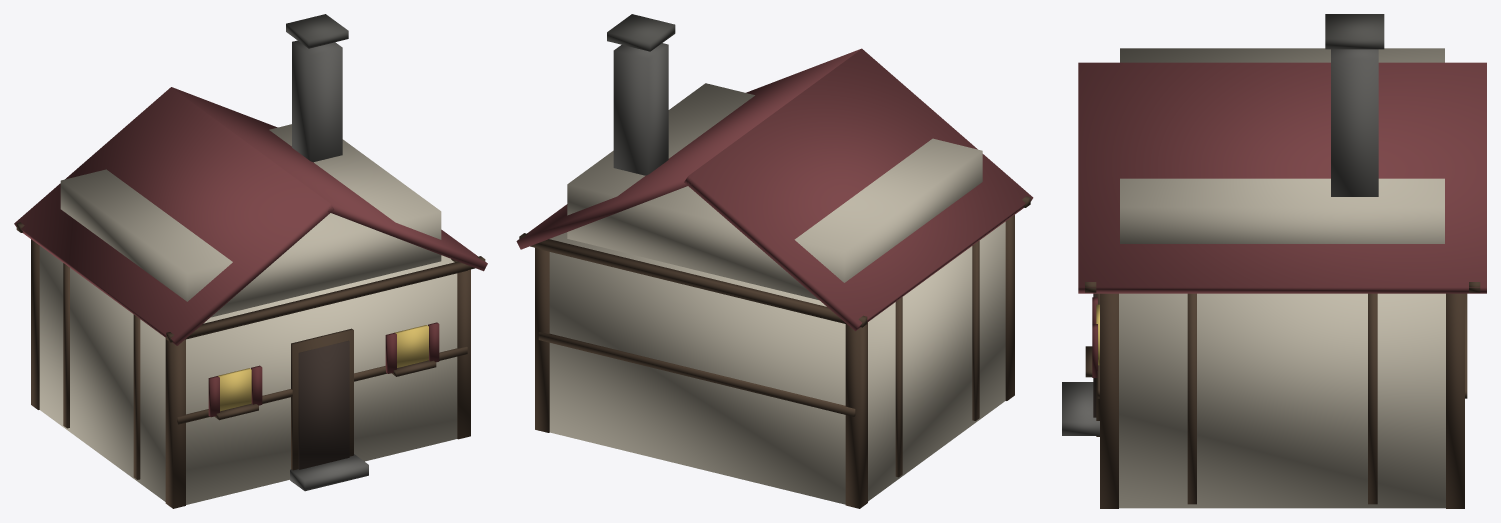
The model's file is house.glb.
3 views of the same model, side by side, from view 1: azimuth 30°, elevation 25°; view 2: azimuth 150°, elevation 25°; view 3: azimuth 270°, elevation 25° (orthographic). The views are drawn at different scales.
Parts seen in each view (by area): view 1: house; view 2: house; view 3: house.
Boxes of the visible parts, <box> form: house: <box>14,14,487,508</box>; house: <box>516,14,1033,508</box>; house: <box>1062,14,1486,508</box>.
Size of the model in its own units: 4.9 by 5.23 by 4.47.
1 material, 1 textured.
